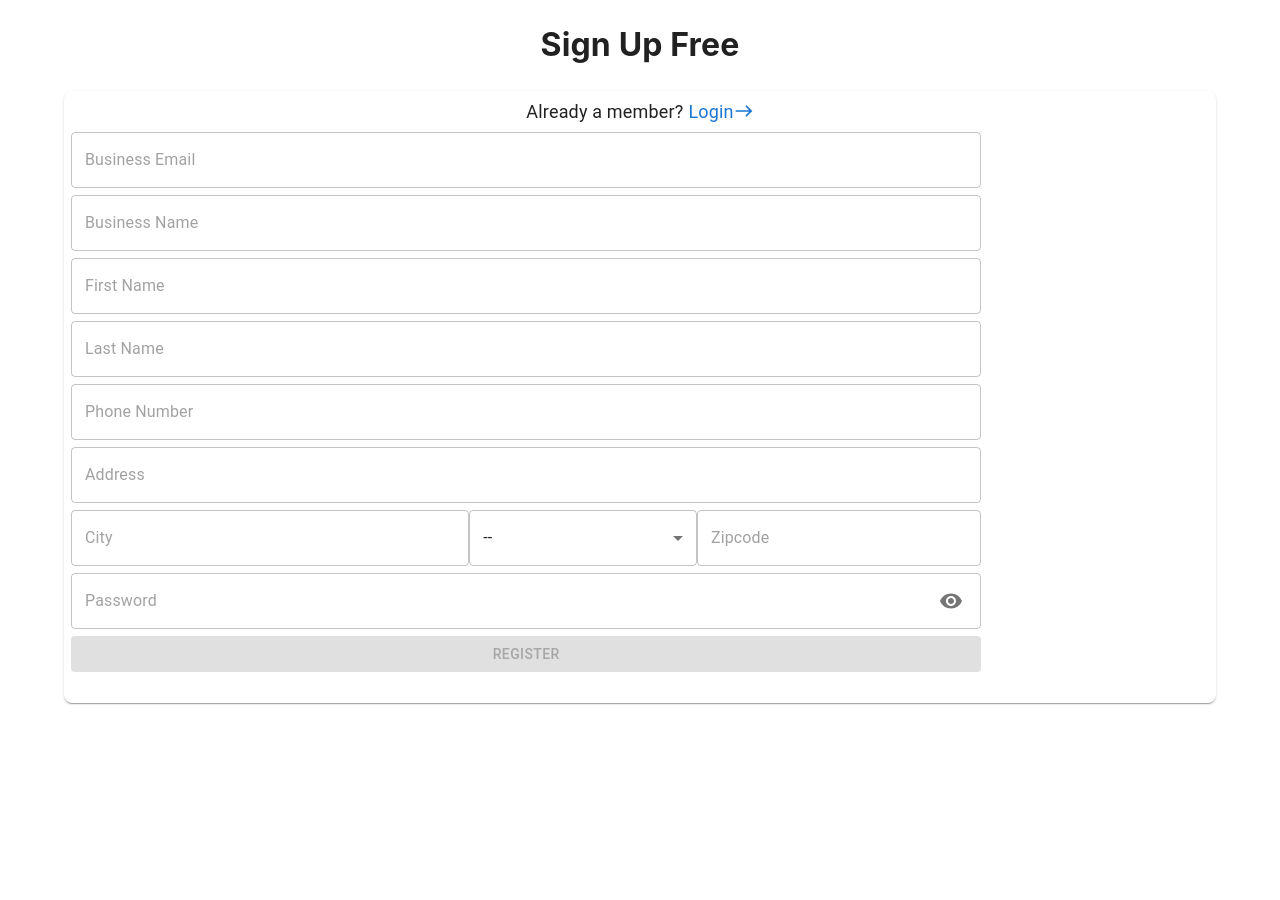
Scenario: Sign Up Route Test › Should show password must contain a number message
This screenshot has width=1280, height=900.
Type "foobaroni$#" into the password field with placeholder "Password" at (501, 601), box left=71, top=573, right=931, bottom=629
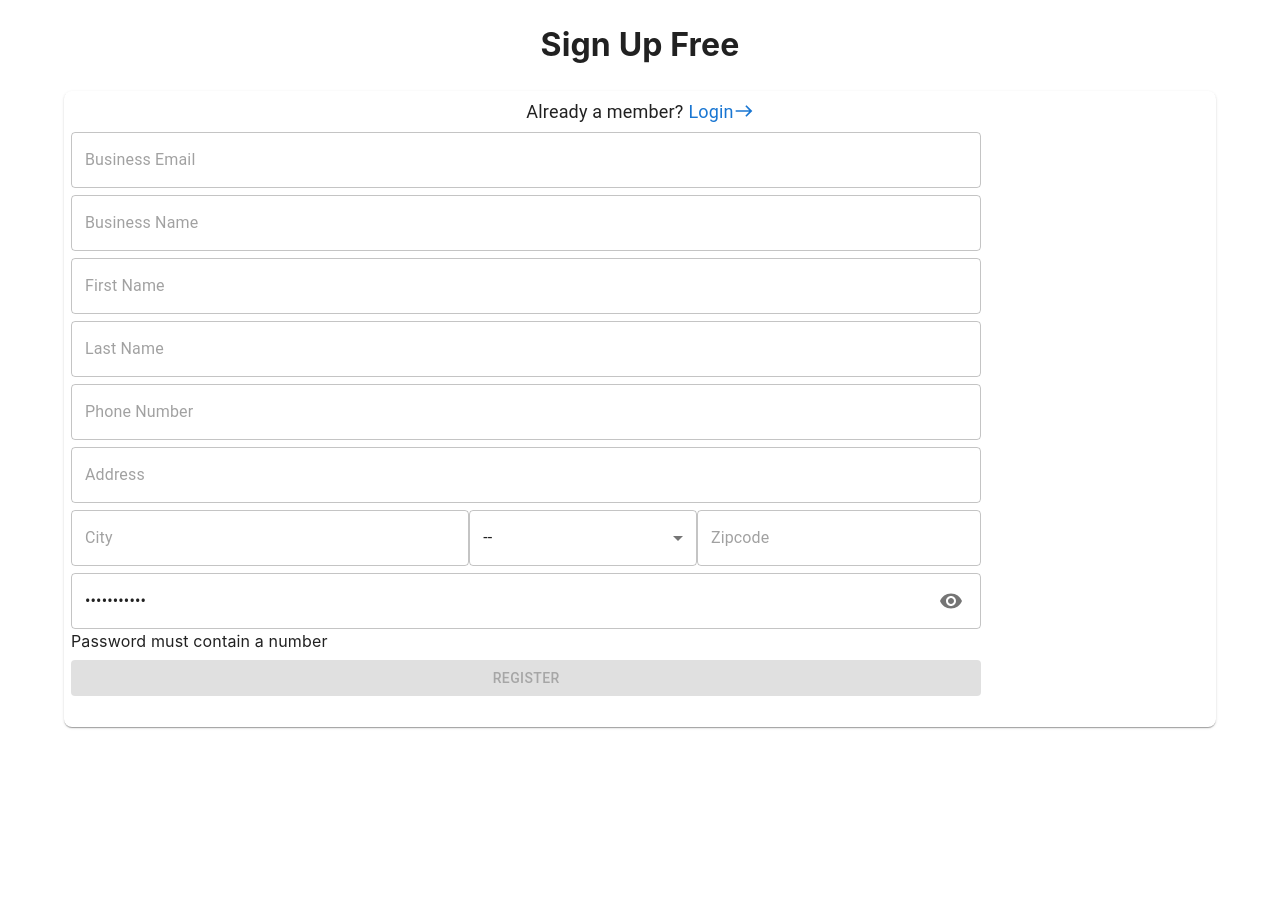
Check: the text with test id "invalid-password-message" reads "Password must contain a number", box left=71, top=631, right=328, bottom=651
